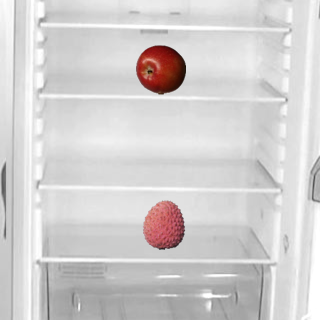Apple Braeburn: (135, 44, 185, 94)
Lychee: (138, 199, 188, 249)
